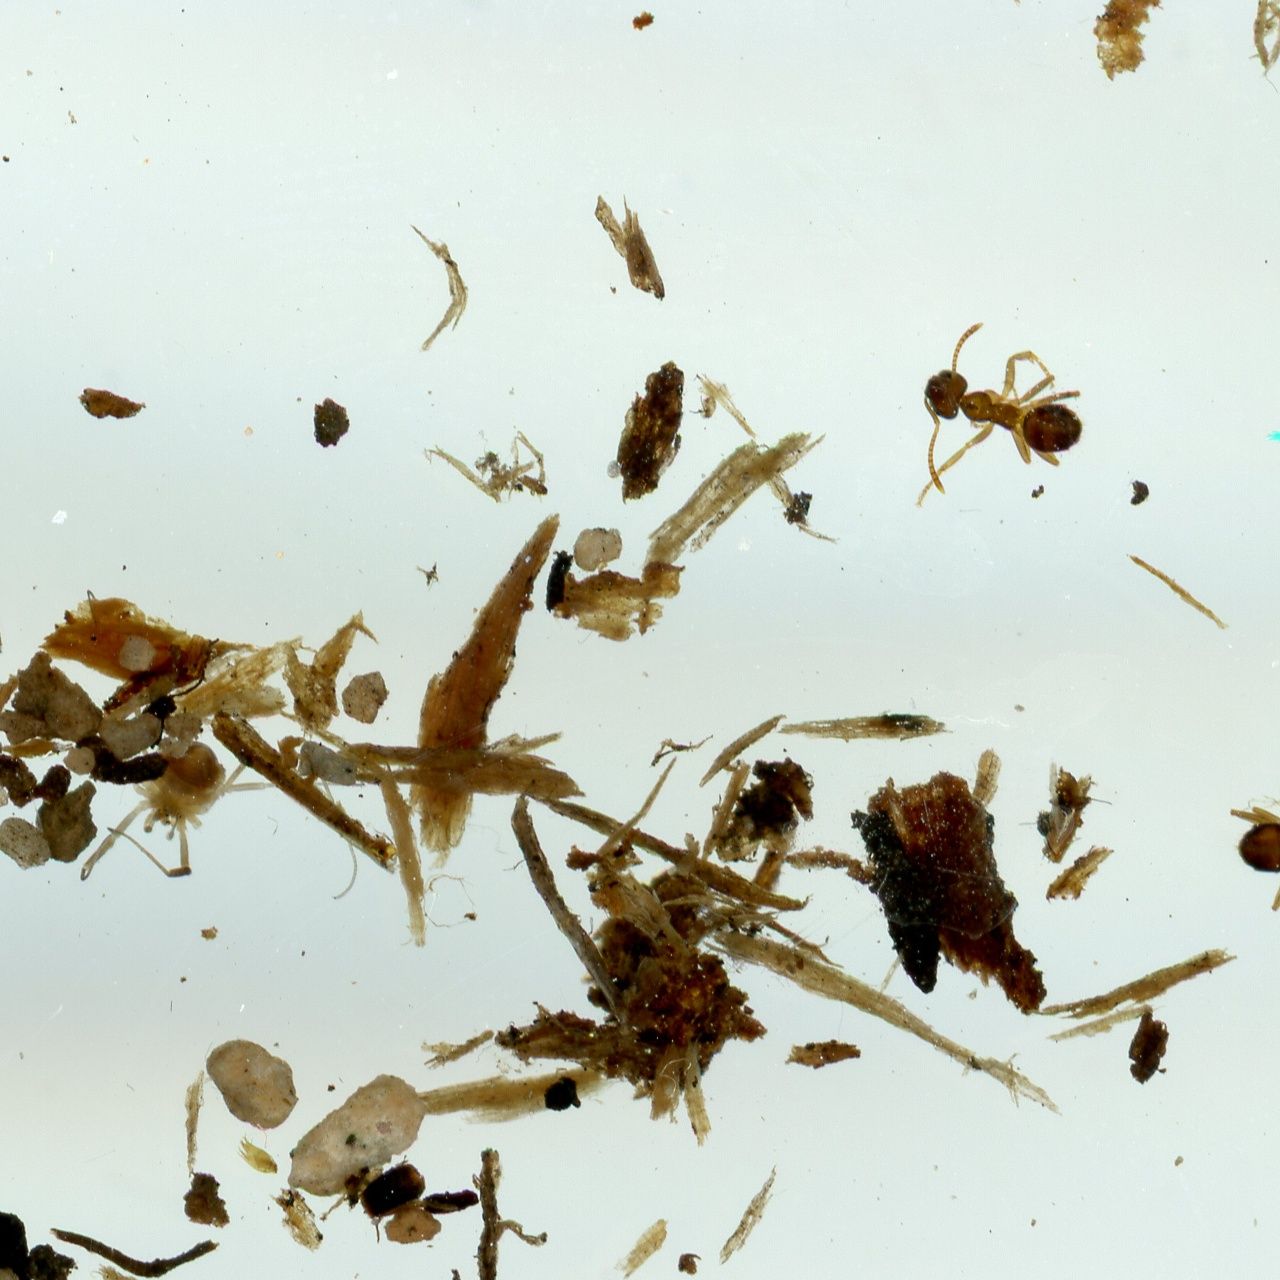arthropod: (0, 680, 361, 947), (908, 319, 1088, 512), (1226, 761, 1280, 913), (688, 394, 719, 420)
